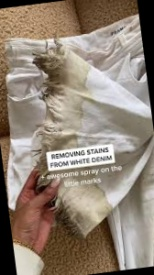earth: (38, 62, 92, 118), (63, 190, 105, 226), (42, 122, 79, 150)
